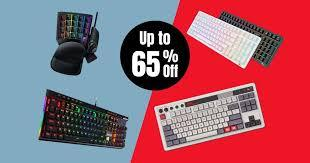keyboard: (153, 82, 265, 151), (37, 86, 130, 151), (186, 10, 261, 69)
